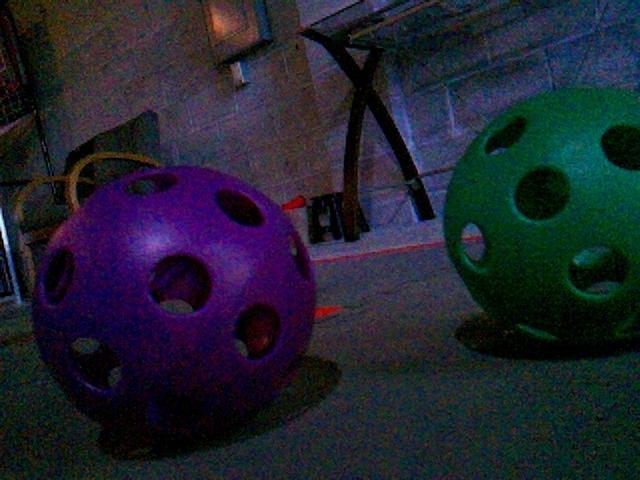Green: (440, 82, 637, 351)
Purple: (29, 161, 319, 443)
